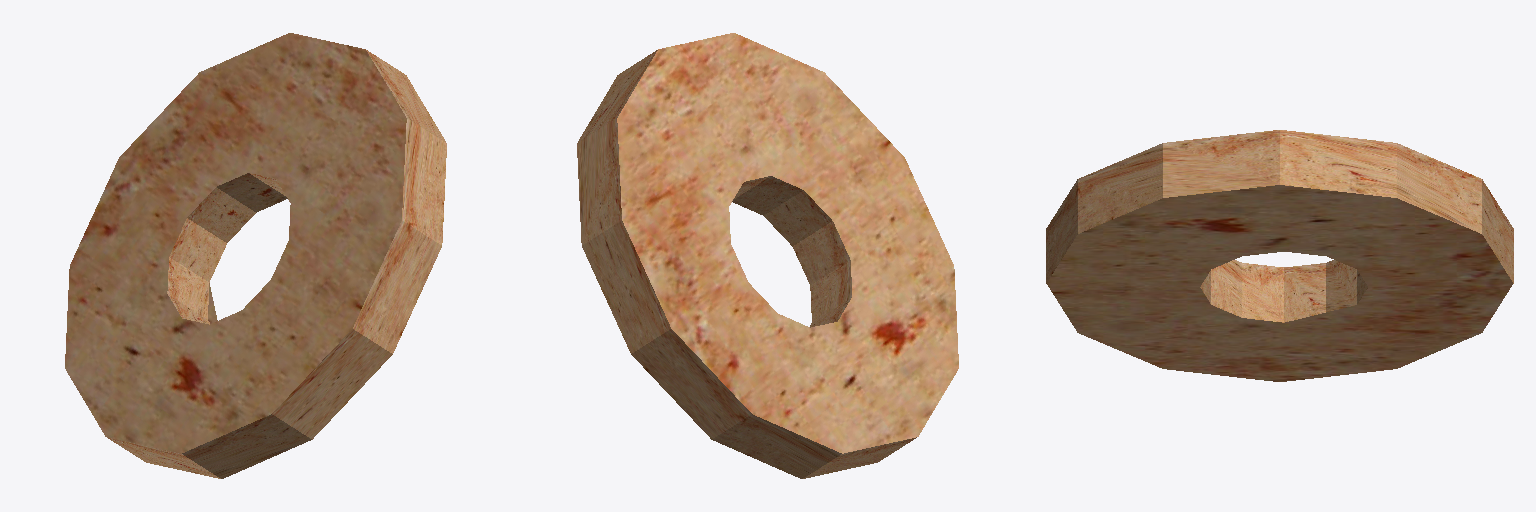
3 renders of one model, left to right at view 1: azimuth 30°, elevation 25°; view 2: azimuth 150°, elevation 25°; view 3: azimuth 270°, elevation 25°, orthographic.
Visible parts, largest first — view 1: Layer_0; view 2: Layer_0; view 3: Layer_0.
Boxes of the visible parts, <box> form: Layer_0: <box>65,33,446,478</box>; Layer_0: <box>577,33,958,478</box>; Layer_0: <box>1046,130,1513,381</box>.
Bounding box in the file's own units: 2.52 × 2.88 × 3.39.
Materials: 1 (1 with a texture image).